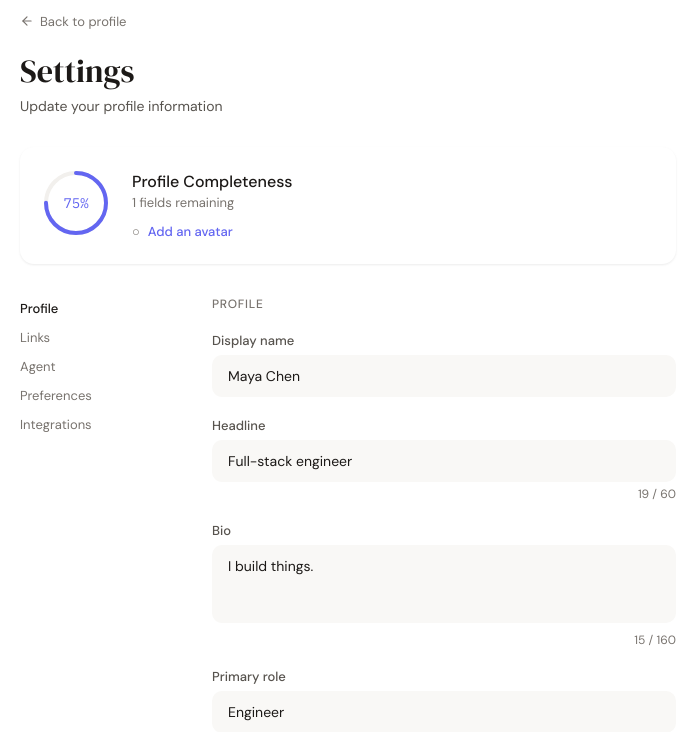
it: SettingsPage › can switch back to Profile after navigating away
The image size is (693, 732).
Click the button "Links". click: (100, 337)
box: x1=20 y1=325 x2=180 y2=350
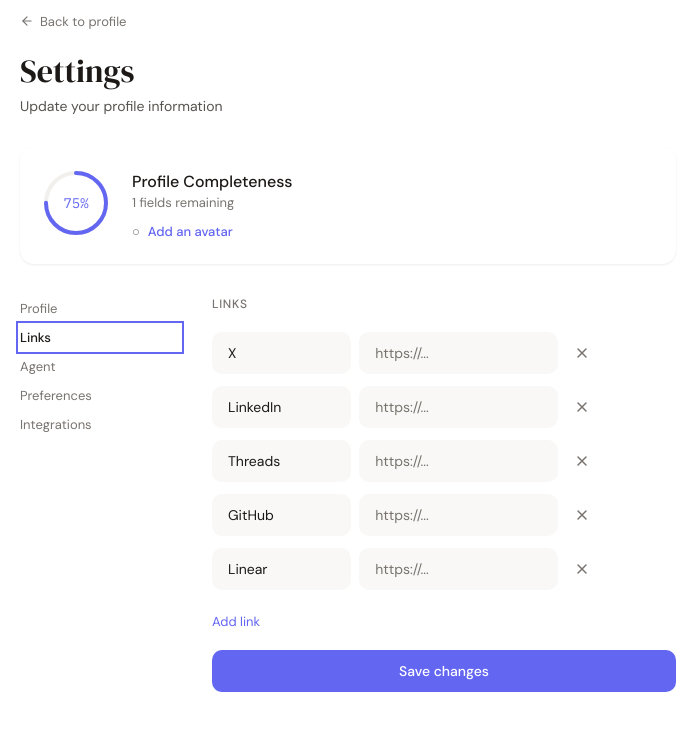
Now the label labelled "Display name" is gone
Click the button "Profile". click: (100, 308)
box: x1=20 y1=296 x2=180 y2=321
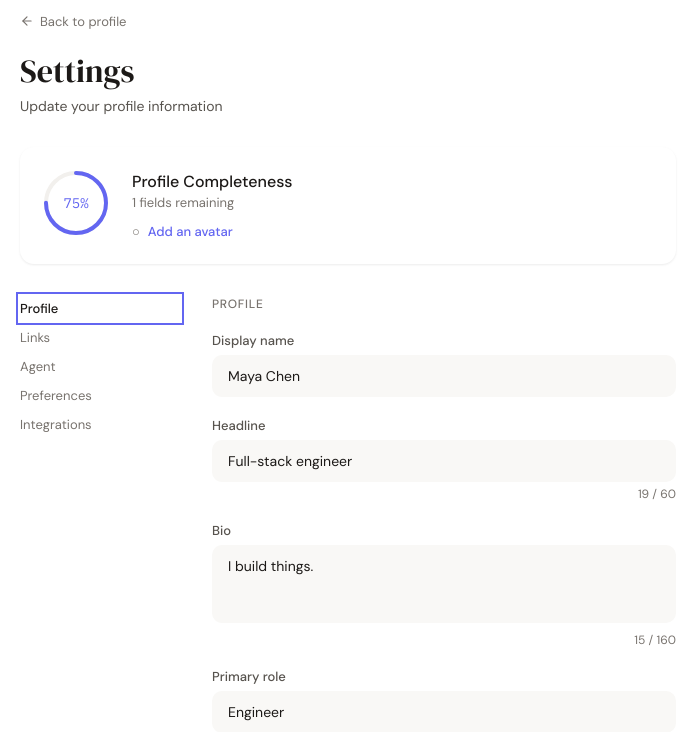
Now the field labelled "Display name" is shown, box x1=212 y1=355 x2=676 y2=397
Now the heading "Profile" is shown, box x1=212 y1=296 x2=264 y2=312
